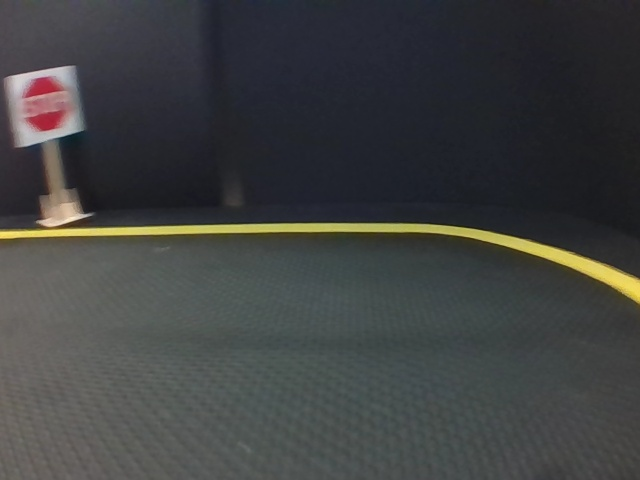stop: (11, 75, 84, 136)
